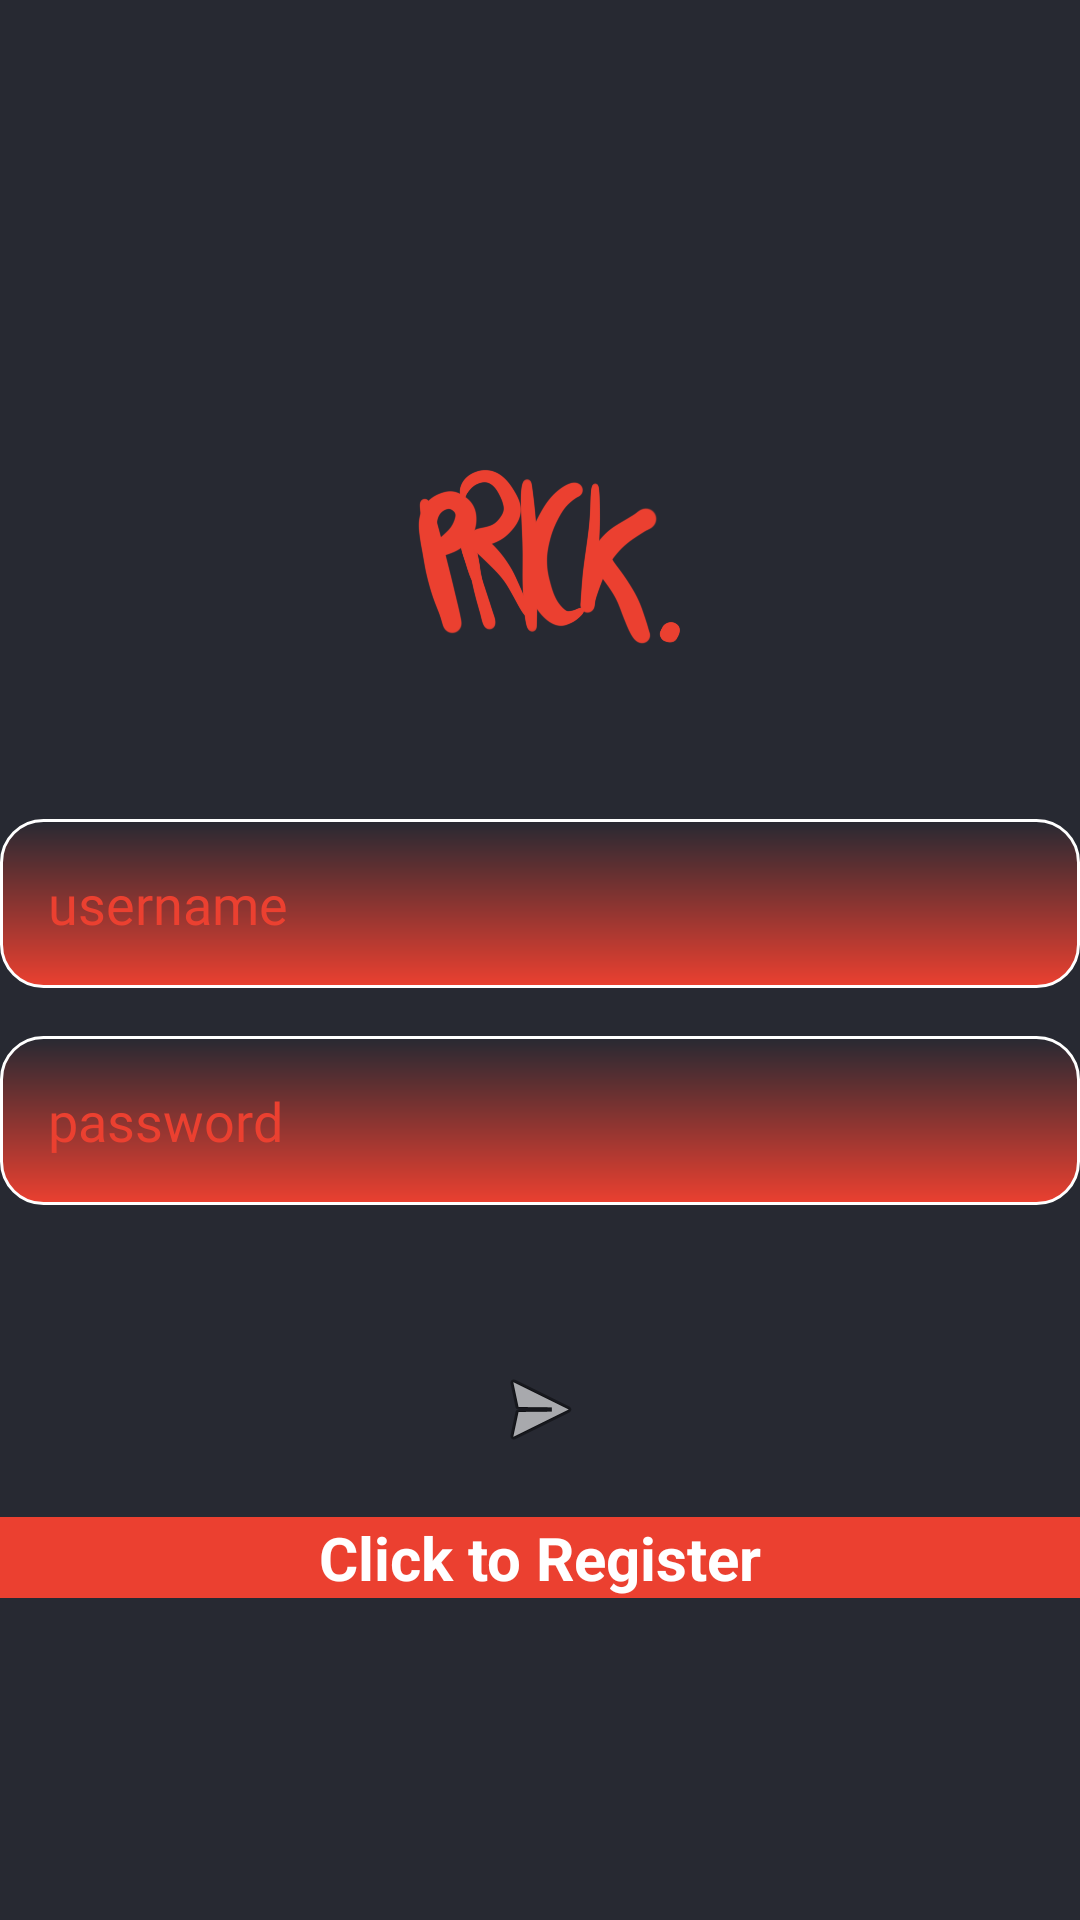

Icons on this 1080*1920 Android screen, each with the point to tap as [x,y]:
Send Button: [540,1409]
